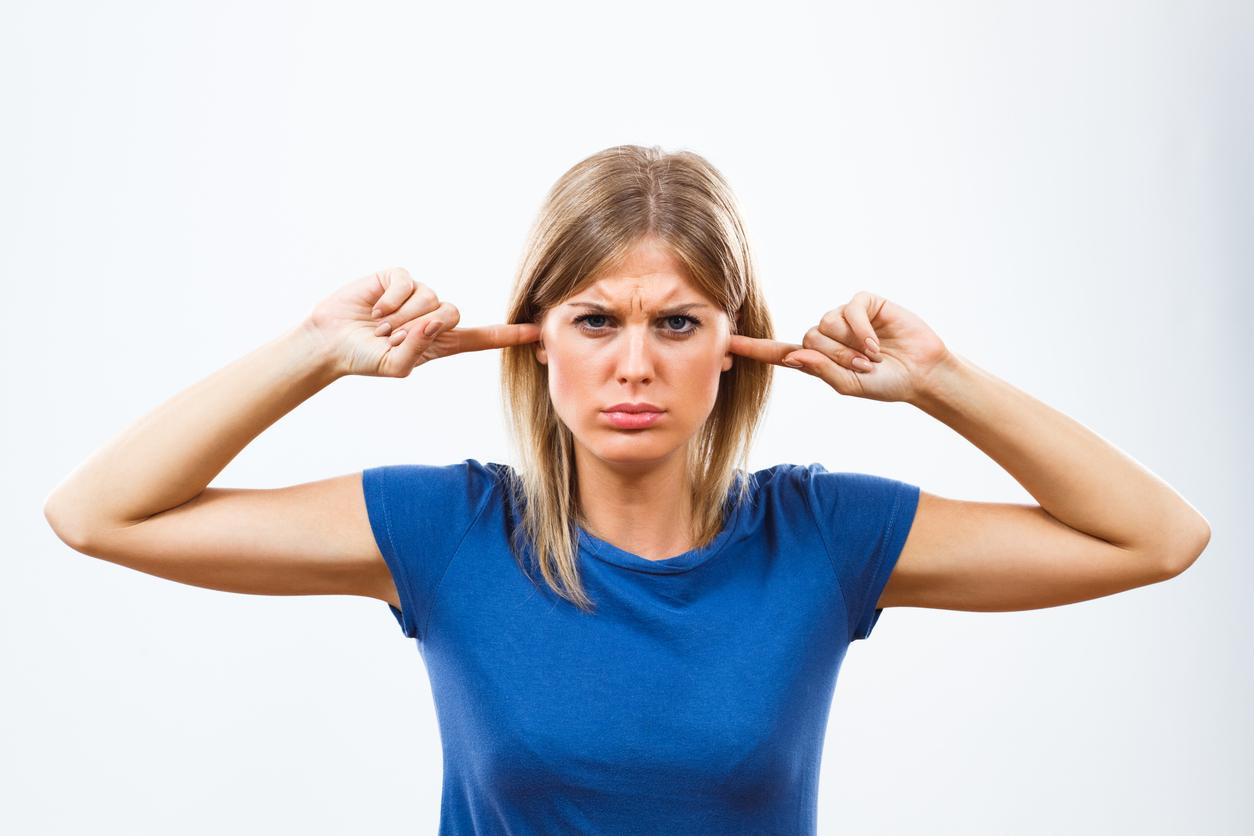human: (36, 135, 1222, 836)
